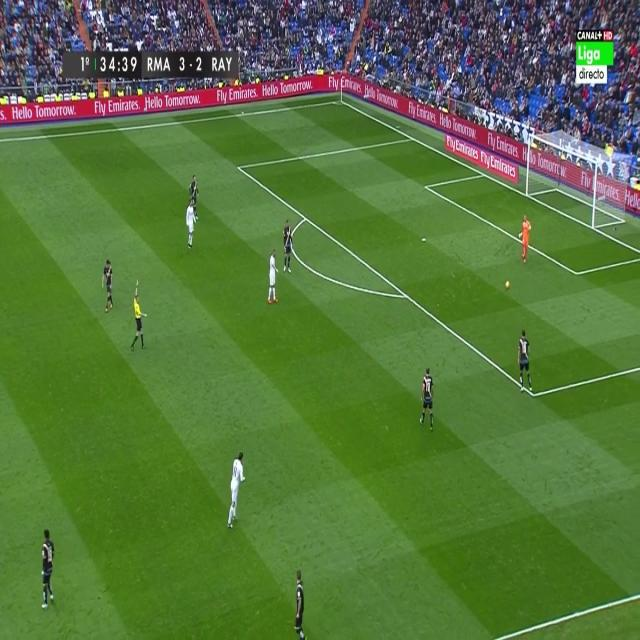Ball: (504, 278, 511, 294)
Goalkeeper: (516, 212, 533, 263)
Player: (223, 450, 250, 533), (39, 525, 56, 613), (515, 325, 535, 394), (418, 365, 437, 433), (292, 565, 308, 640), (100, 259, 115, 316), (282, 215, 295, 276), (266, 249, 279, 309), (185, 198, 196, 254), (188, 171, 198, 211)
Referee: (129, 276, 148, 355)
